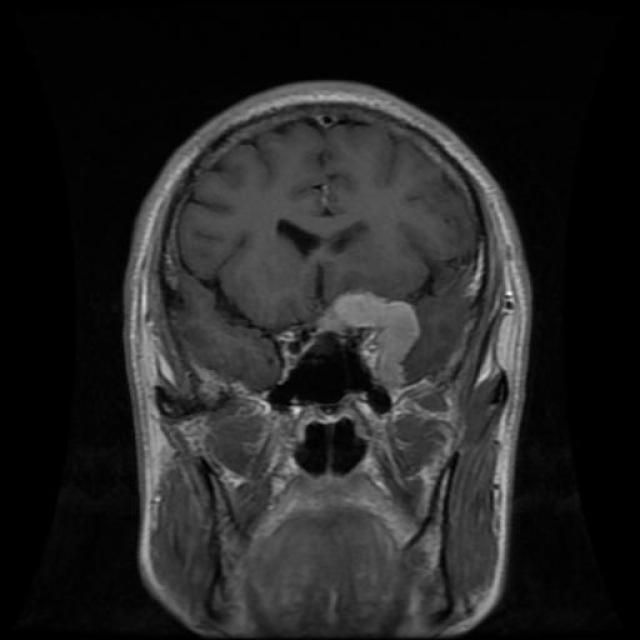meningioma: (331, 292, 421, 384)
